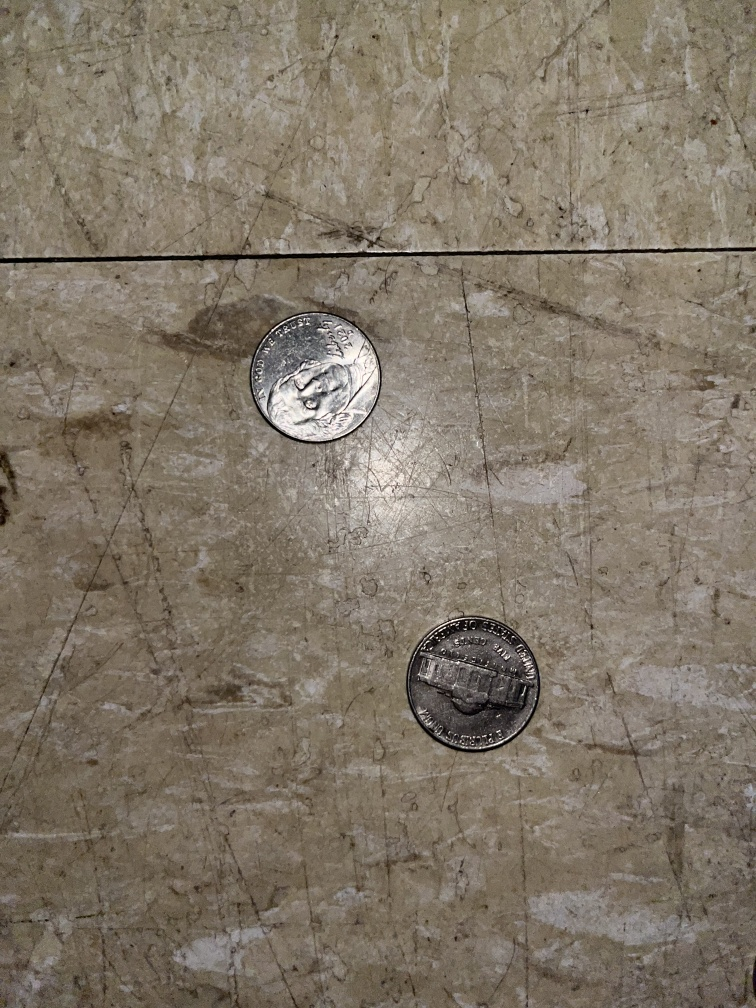nickel: (398, 611, 548, 760), (243, 305, 386, 453)
